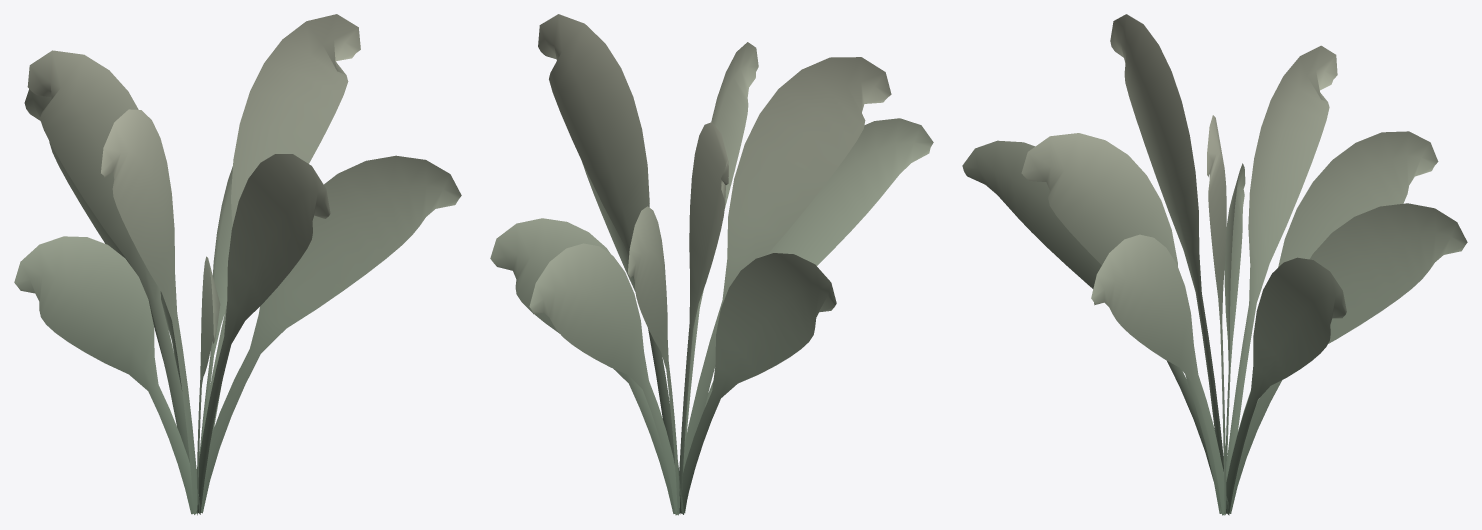
Rendered from plant_broadleaf.glb.
The picture shows the model from 3 angles, left to right: view 1: azimuth 30°, elevation 25°; view 2: azimuth 150°, elevation 25°; view 3: azimuth 270°, elevation 25°; orthographic projection. The views are drawn at different scales.
Parts seen in each view (by area): view 1: Broadleaf; view 2: Broadleaf; view 3: Broadleaf.
Boxes of the visible parts, box(x1,y1,x2,y2) form: Broadleaf: box(14, 14, 461, 515); Broadleaf: box(490, 14, 933, 515); Broadleaf: box(962, 14, 1467, 515).
Size of the model in its own units: 0.1364 by 0.1686 by 0.1722.
